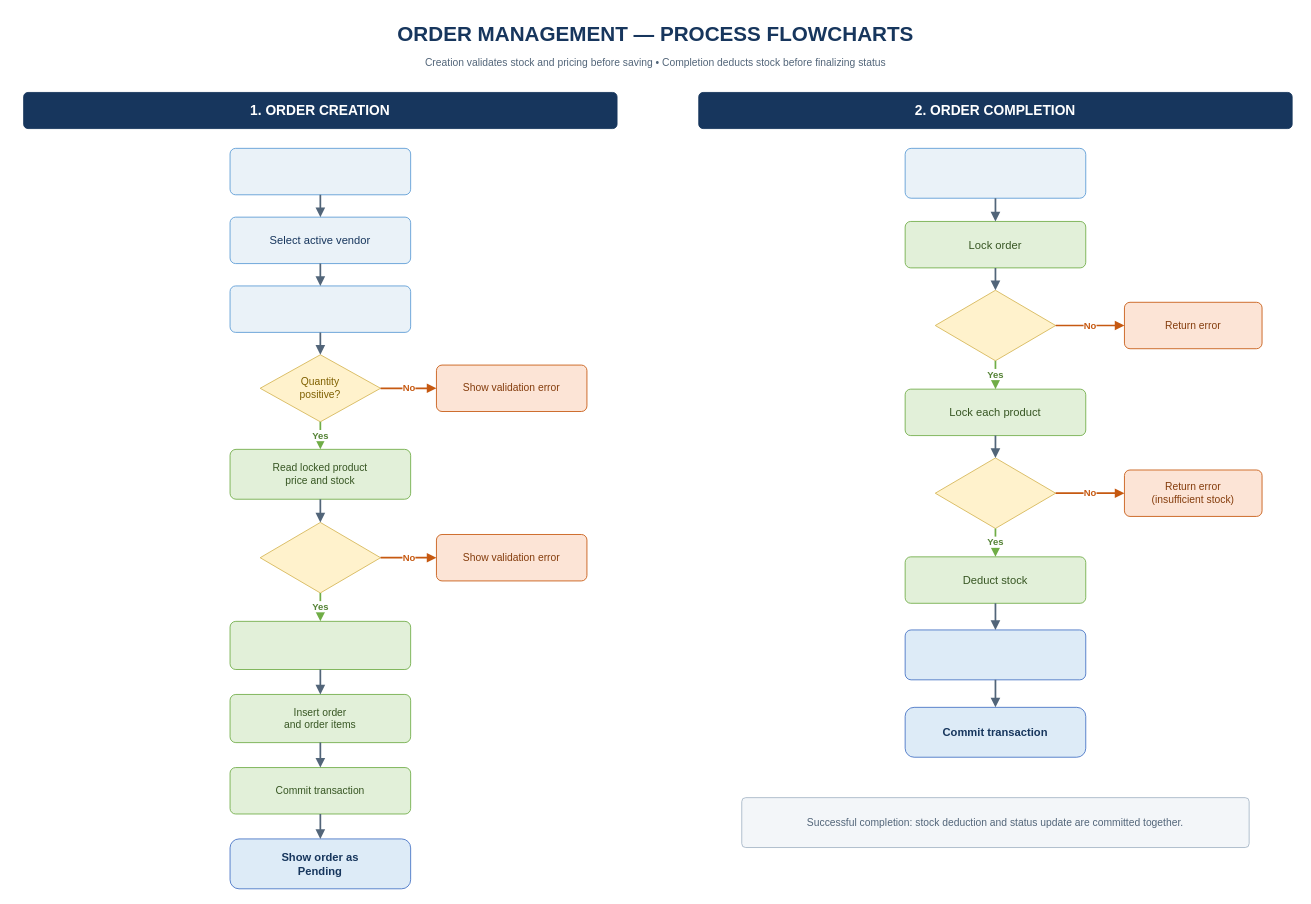
The diagram is 1311 pixels wide and 904 high, and some of its shapes have lost their labels. The box of each missing label's shape, as (x1, y1, x2, y2) in pixels:
Calculate subtotal and total: (229, 620, 411, 670)
Enough stock and active product?: (259, 522, 381, 593)
Enough stock for all items?: (934, 457, 1056, 528)
Order exists and is editable?: (934, 289, 1056, 361)
Request status change to Completed: (904, 147, 1086, 198)
Select product and quantity: (229, 285, 411, 332)
Update order status to Completed: (904, 629, 1086, 680)
User opens Create Order: (229, 147, 411, 195)
